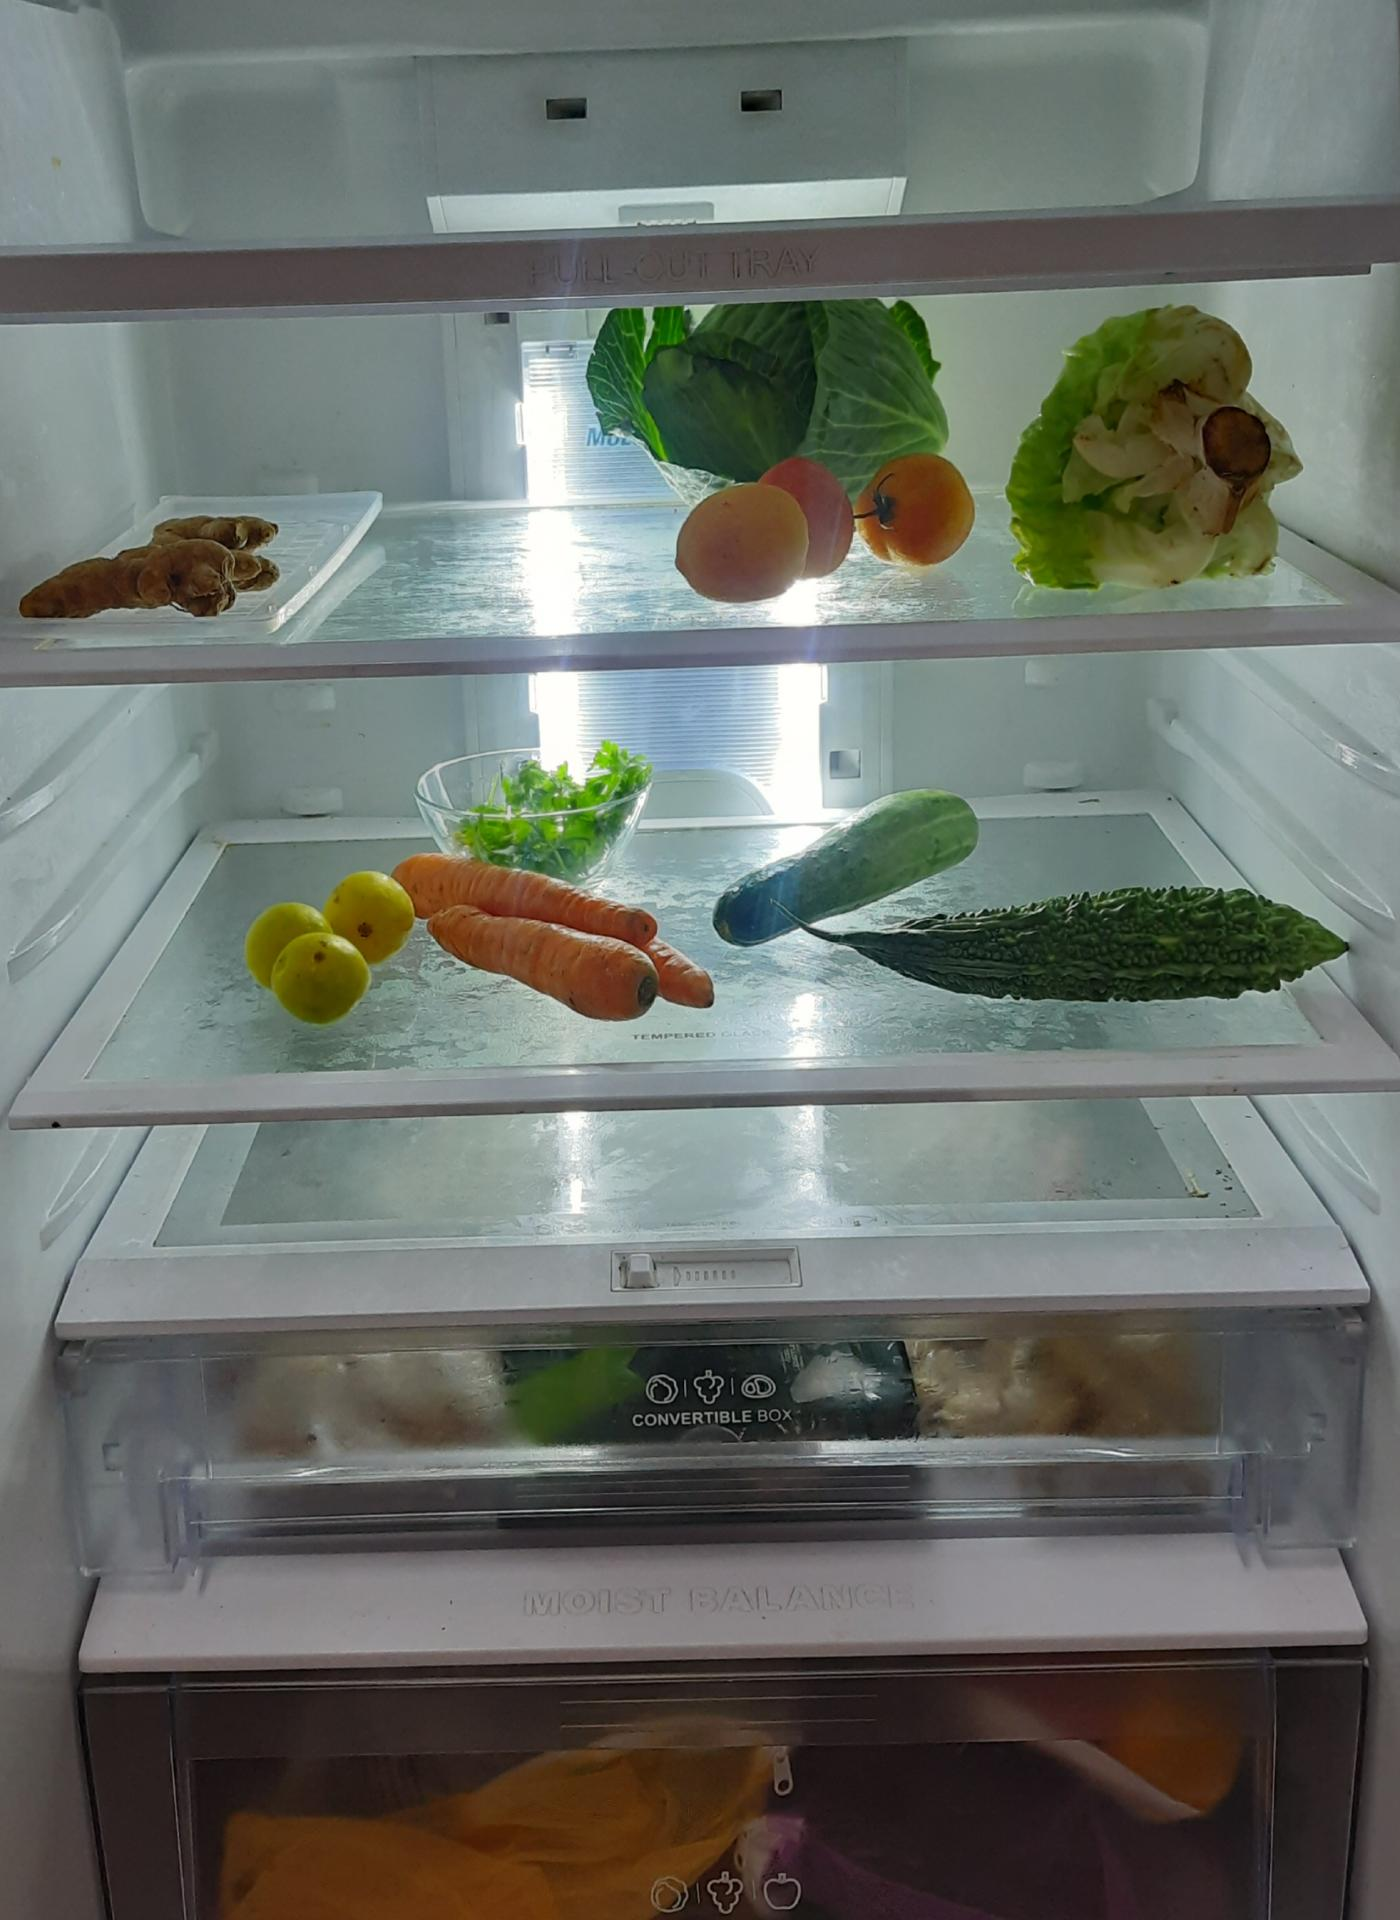bitter gourd: (819, 882, 1354, 1017)
cabbage: (590, 307, 950, 495)
carrots: (207, 1711, 777, 1911), (391, 856, 728, 1035)
coriander: (450, 751, 641, 859)
cucumber: (701, 786, 986, 948)
ginger: (16, 507, 282, 623)
lemon: (239, 878, 410, 1027)
lettuce: (1011, 295, 1294, 586)
tomato: (665, 456, 856, 611), (860, 446, 983, 558)
